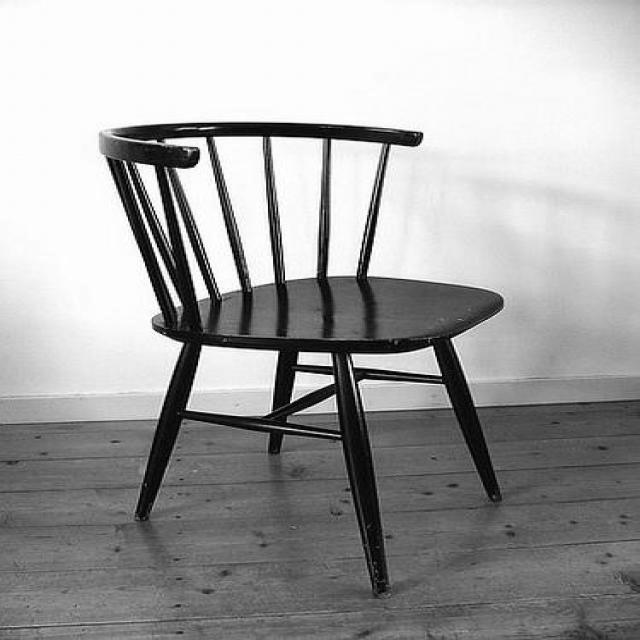chair: (98, 119, 508, 597)
